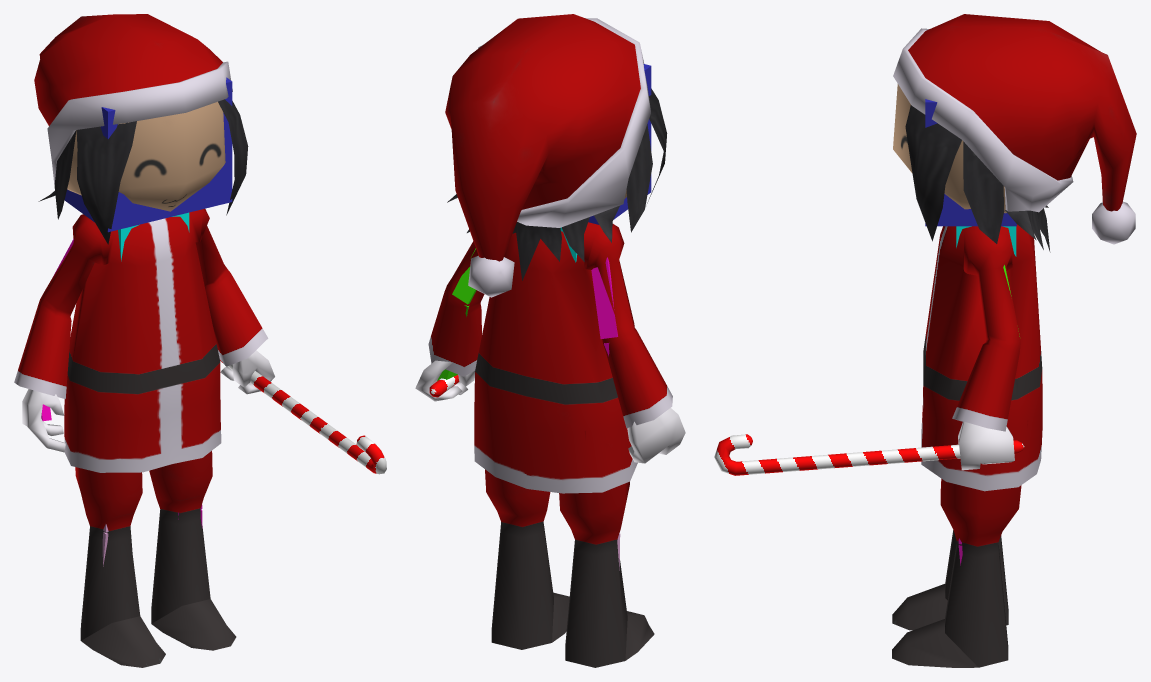
Rendered from xmasguy.gltf.
3 renders of one model, left to right at view 1: azimuth 30°, elevation 25°; view 2: azimuth 150°, elevation 25°; view 3: azimuth 270°, elevation 25°, orthographic. The views are drawn at different scales.
Visible parts, largest first — view 1: Box001, Sphere001, rosto, cabelo, Base_HumanHead, Line002, Box003, Box002; view 2: Box001, Sphere001, cabelo, Box003, Base_HumanRUpperarm, Box002, Base_HumanHead, Base_HumanLUpperarm; view 3: Box001, Sphere001, cabelo, Line002, Box002, rosto, Base_HumanHead.
Boxes of the visible parts, x1,y1,x2,y2 form: Box001: (14, 208, 268, 667); Sphere001: (34, 14, 232, 184); rosto: (67, 101, 225, 211); cabelo: (38, 99, 248, 244); Base_HumanHead: (64, 77, 232, 232); Line002: (220, 360, 386, 474); Box003: (22, 389, 65, 452); Box002: (220, 350, 274, 394); Box001: (428, 222, 672, 667); Sphere001: (445, 14, 650, 297); cabelo: (447, 88, 667, 280); Box003: (627, 408, 685, 463); Base_HumanRUpperarm: (591, 257, 617, 338); Box002: (415, 360, 474, 401); Base_HumanHead: (588, 64, 651, 224); Base_HumanLUpperarm: (452, 248, 476, 304); Box001: (892, 224, 1042, 667); Sphere001: (893, 14, 1136, 244); cabelo: (905, 105, 1050, 252); Line002: (714, 434, 1024, 475); Box002: (958, 421, 1014, 470); rosto: (893, 84, 1006, 213); Base_HumanHead: (925, 99, 1016, 226).
Size of the model in its own units: 81.81 by 194 by 121.
16 materials, 4 textured.
